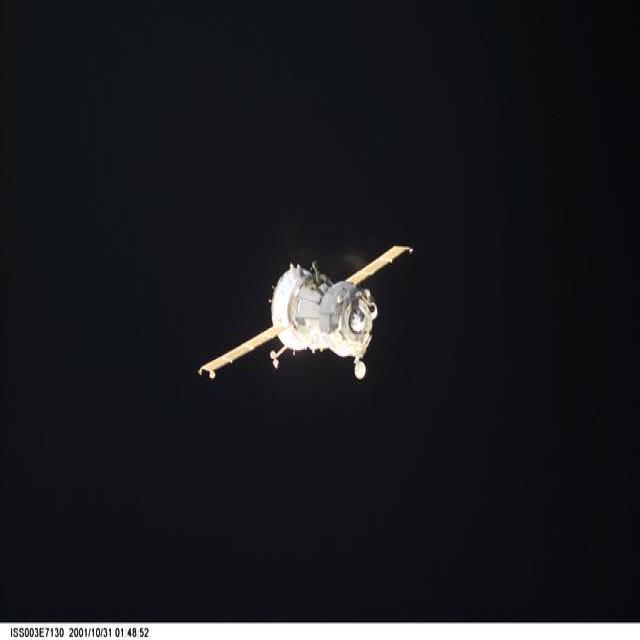medium_debris: (199, 245, 412, 379)
